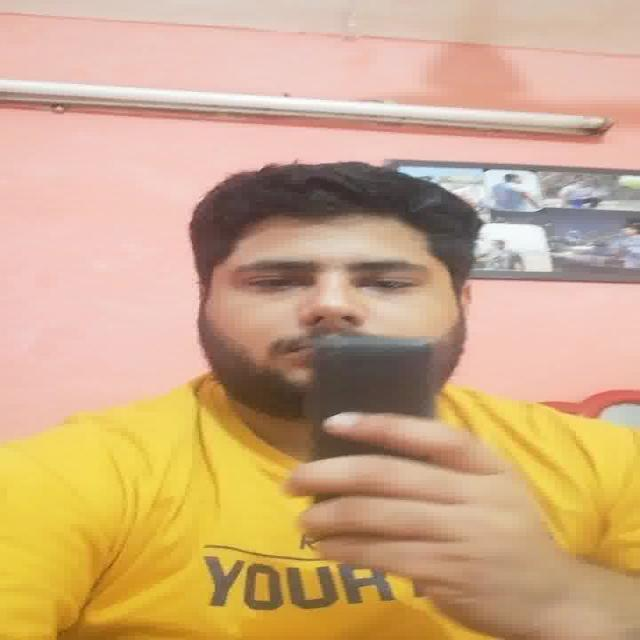Phone: (311, 338, 437, 456)
